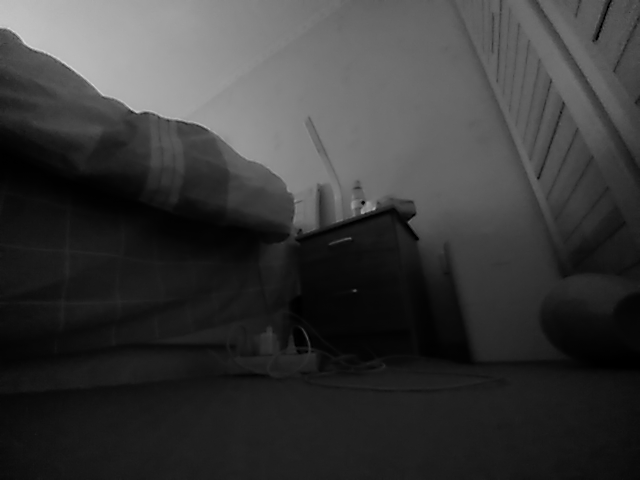power strip: (223, 320, 322, 377)
wire: (322, 348, 493, 391)
